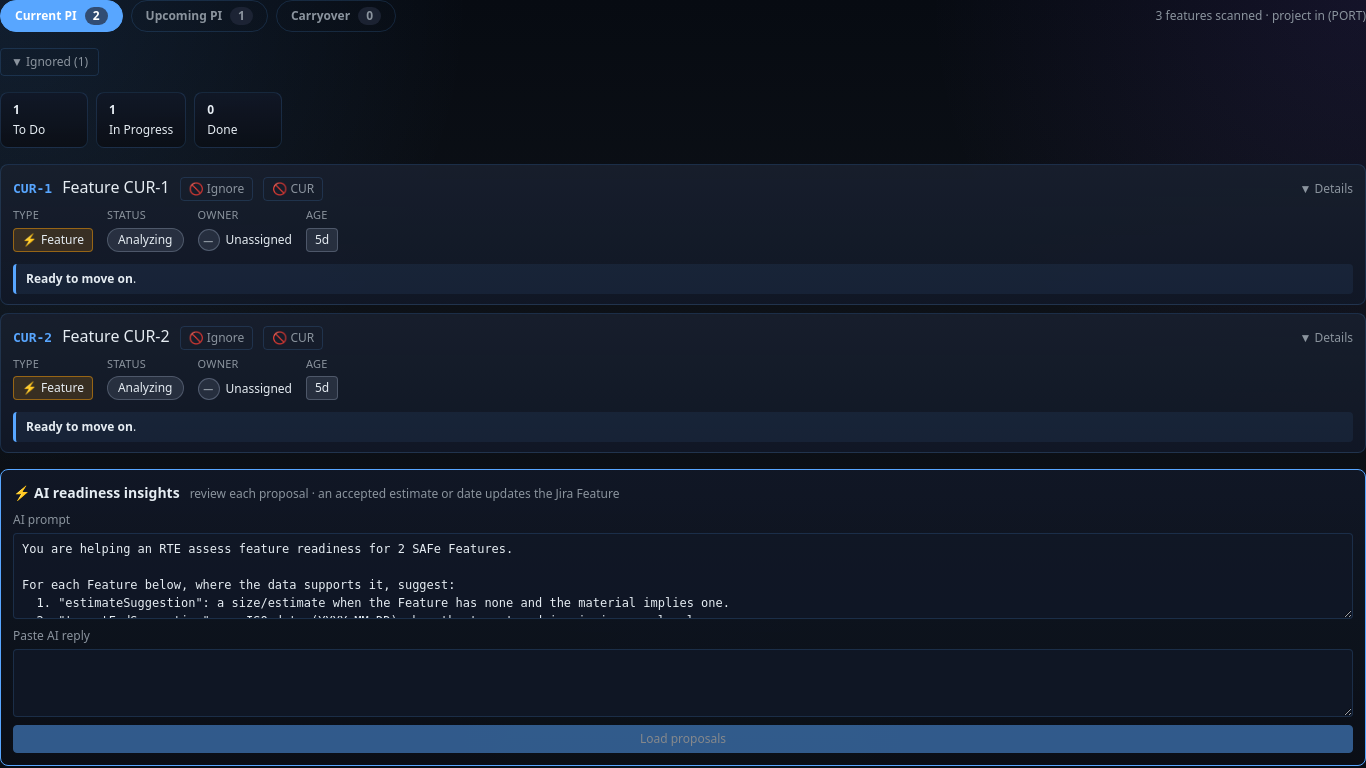
Test: ReadinessPanel › shows the ignored manager with a restore control once something is ignored
Click the button "▼ Ignored (1)" at (50, 62), box [0, 48, 99, 76]
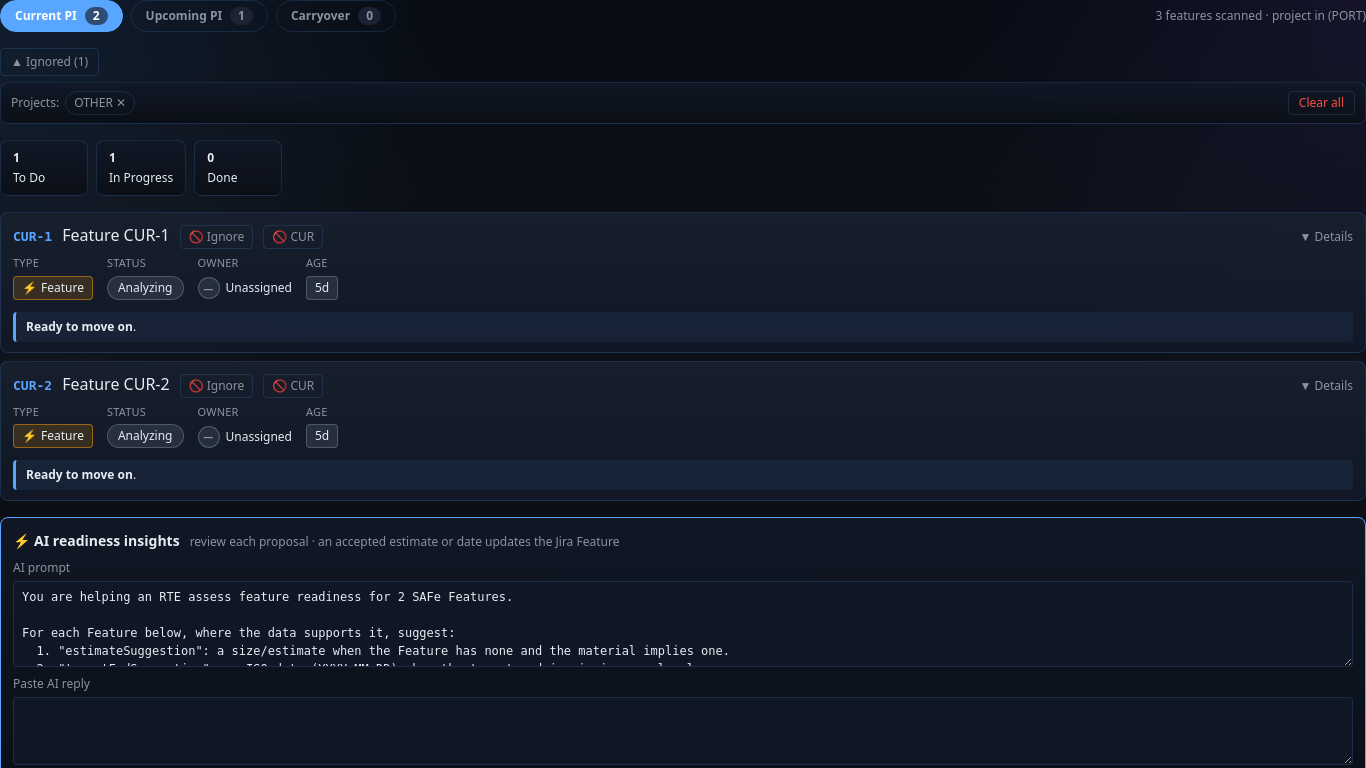
Check: the button with aria-label "Restore project OTHER" is shown, box [65, 91, 135, 115]
